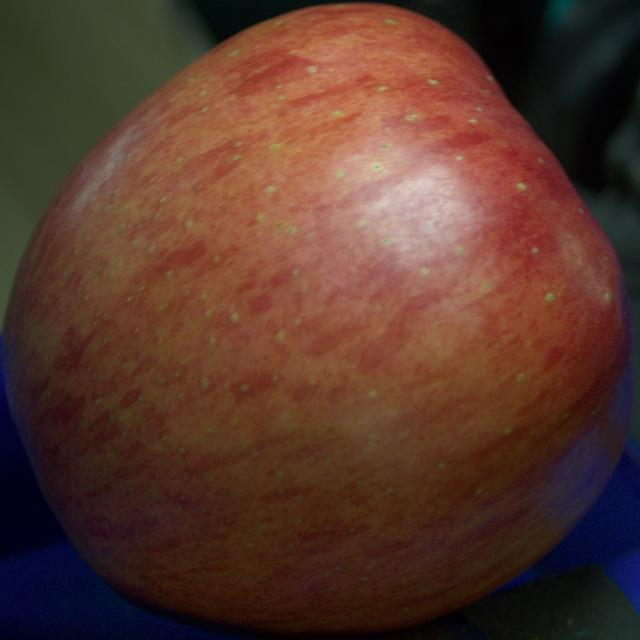apple: (2, 4, 632, 635)
